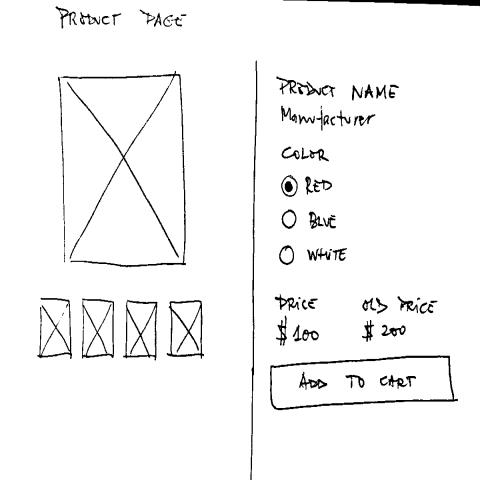Button: (269, 354, 460, 411)
Image: (57, 73, 191, 270), (81, 296, 117, 361), (39, 296, 75, 360), (169, 299, 206, 360), (125, 298, 159, 361)
Radio Button: (279, 241, 349, 269), (280, 207, 337, 234), (280, 173, 335, 199)
